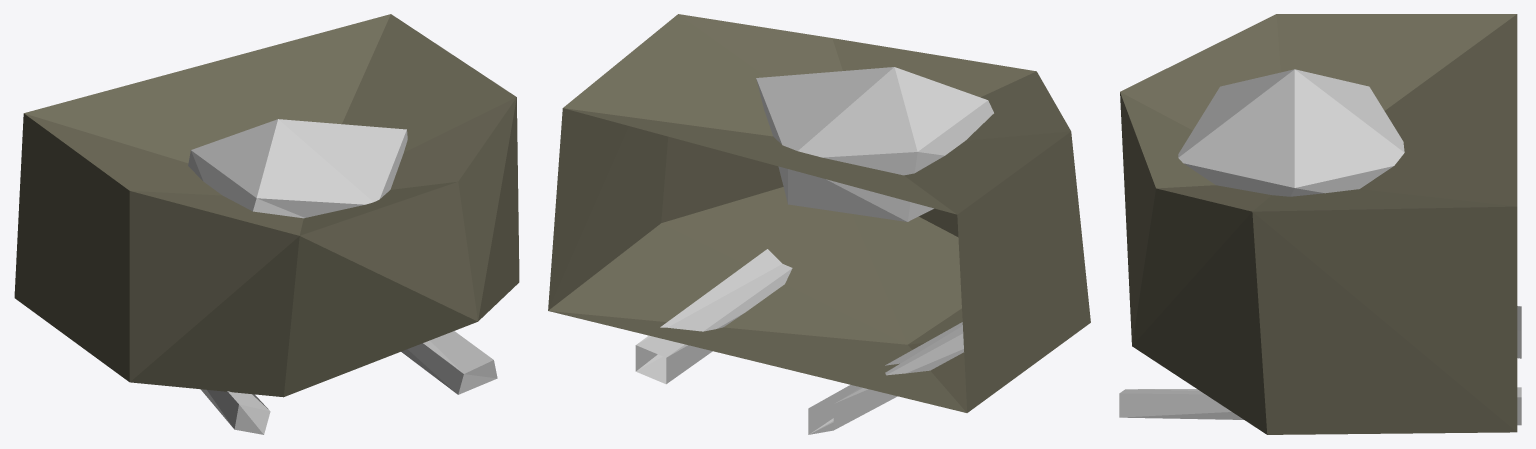
The model's file is NC_LOB_LIGHTER.OBJ.
3 views of the same model, side by side, from view 1: azimuth 30°, elevation 25°; view 2: azimuth 150°, elevation 25°; view 3: azimuth 270°, elevation 25° (orthographic). The views are drawn at different scales.
Parts seen in each view (by area): view 1: NC_LOB_LIGHTER; view 2: NC_LOB_LIGHTER; view 3: NC_LOB_LIGHTER.
Boxes of the visible parts, x1,y1,x2,y2 form: NC_LOB_LIGHTER: (14, 14, 519, 434); NC_LOB_LIGHTER: (548, 14, 1090, 434); NC_LOB_LIGHTER: (1119, 14, 1521, 434).
Bounding box in the file's own units: 0.418 × 0.2677 × 0.325.
